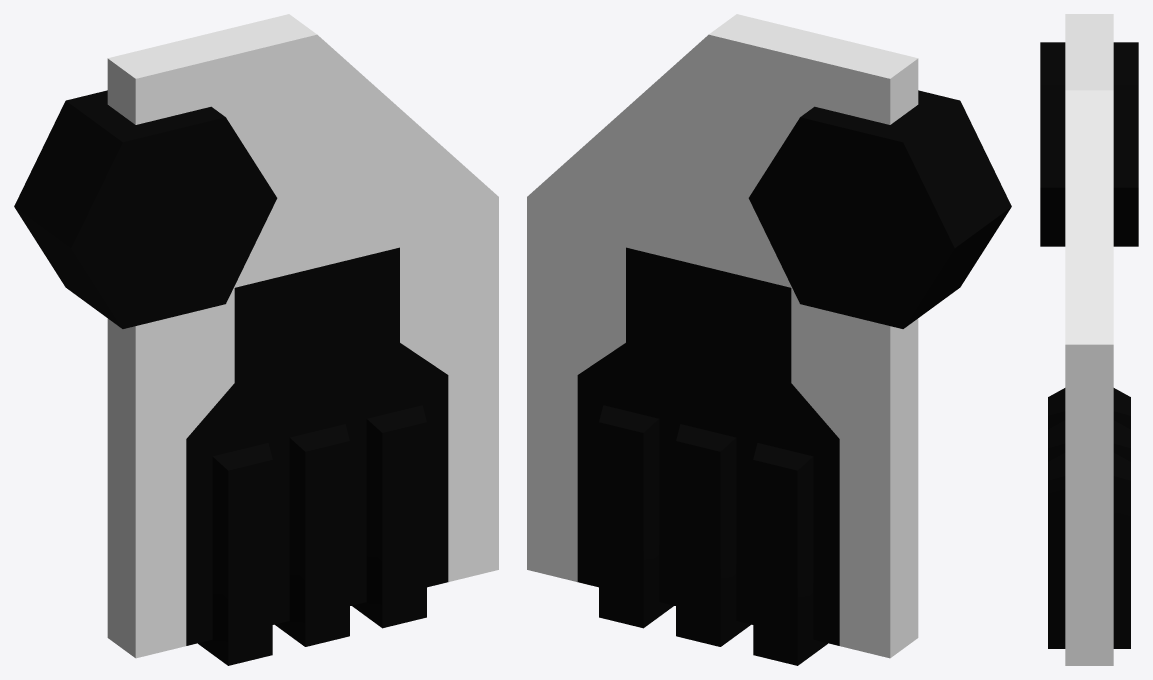
The model's file is space_SM_Prop_Keycard_01.gltf.
The picture shows the model from 3 angles, left to right: view 1: azimuth 30°, elevation 25°; view 2: azimuth 150°, elevation 25°; view 3: azimuth 270°, elevation 25°; orthographic projection. The views are drawn at different scales.
Visible parts, largest first — view 1: SM_Prop_Keycard_01; view 2: SM_Prop_Keycard_01; view 3: SM_Prop_Keycard_01.
Part boxes in pixels (x1,y1,x2,y2): SM_Prop_Keycard_01: (14,14,498,665); SM_Prop_Keycard_01: (527,14,1011,665); SM_Prop_Keycard_01: (1040,14,1138,665).
Bounding box in the file's own units: 0.2977 × 0.3859 × 0.0666.
1 material, 1 textured.
